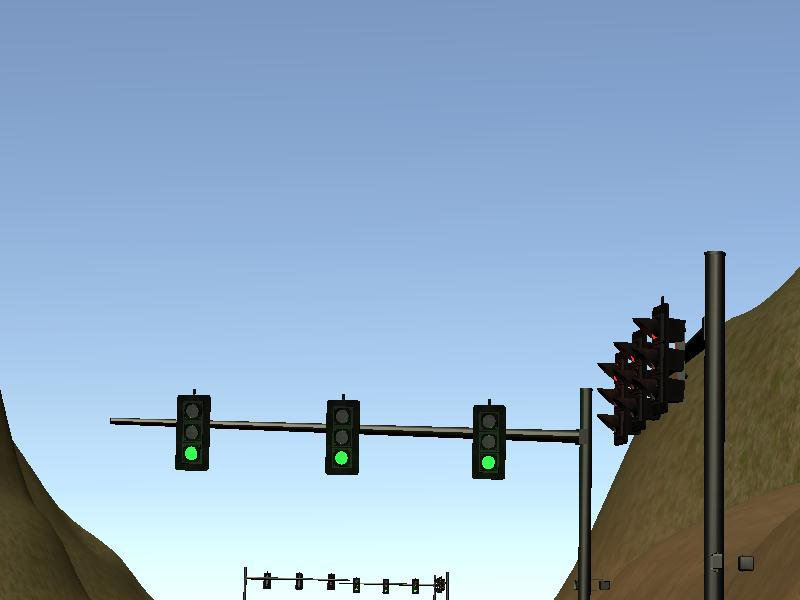not_red: (176, 391, 212, 472), (324, 399, 361, 476), (473, 405, 505, 479)
